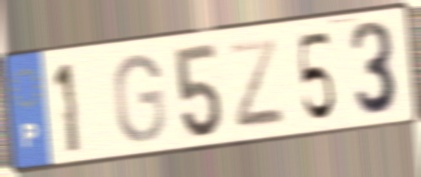1: (50, 58, 84, 156)
3: (348, 17, 402, 119)
5: (170, 38, 224, 141), (294, 28, 338, 123)
G: (111, 50, 168, 146)
Z: (226, 35, 289, 132)
